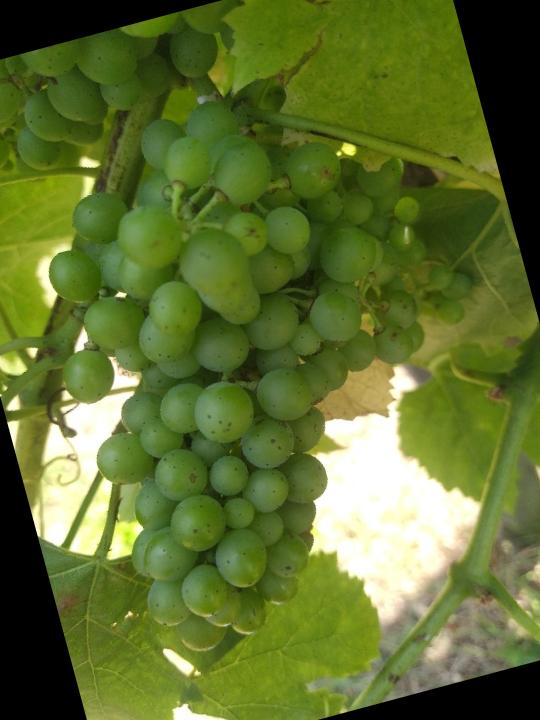grape: (0, 43, 540, 675)
